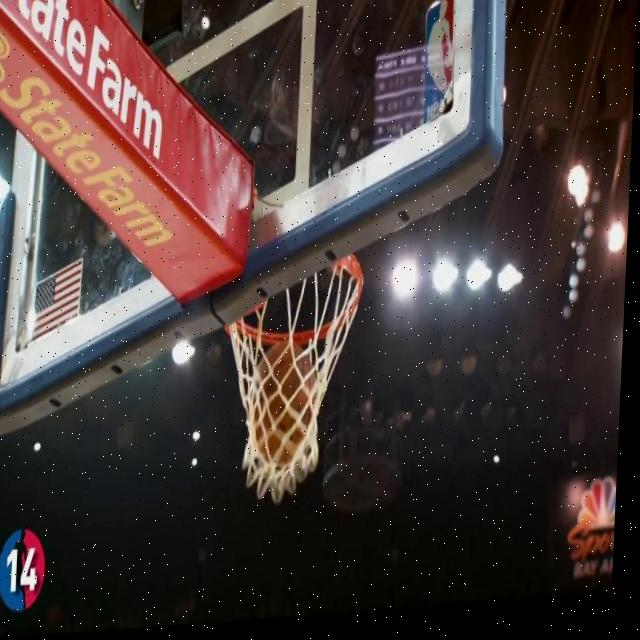Goal: (246, 342, 321, 469)
